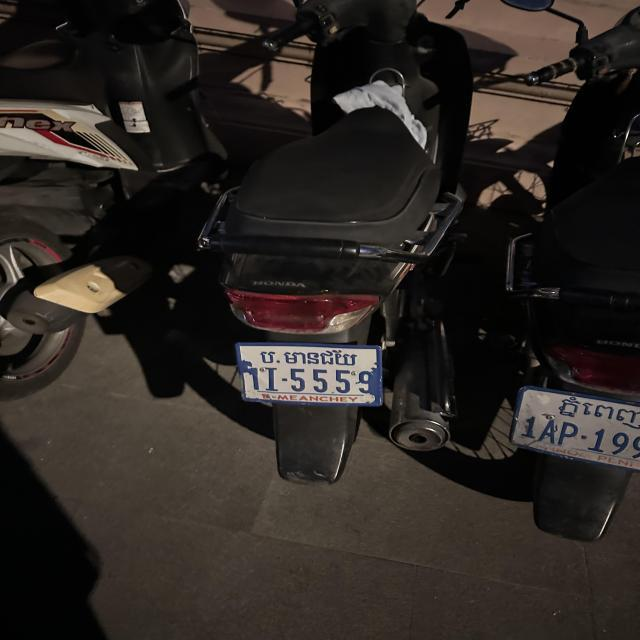Banteay_Meanchey: (256, 345, 359, 368)
